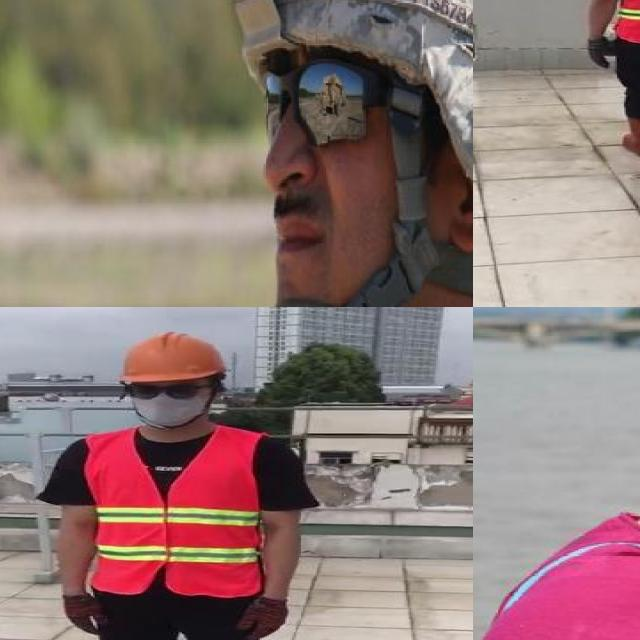boots: (620, 114, 640, 159)
face_mask: (127, 380, 210, 424)
face_nomask: (249, 61, 375, 272)
glasses: (260, 61, 394, 152), (119, 378, 213, 403)
hand_glove: (237, 601, 287, 640), (63, 593, 109, 634), (587, 38, 617, 68)
head_helmet: (240, 0, 473, 94), (117, 331, 222, 385)
person: (44, 329, 310, 640), (473, 330, 640, 640), (575, 0, 640, 199)
vest: (86, 428, 265, 599)
